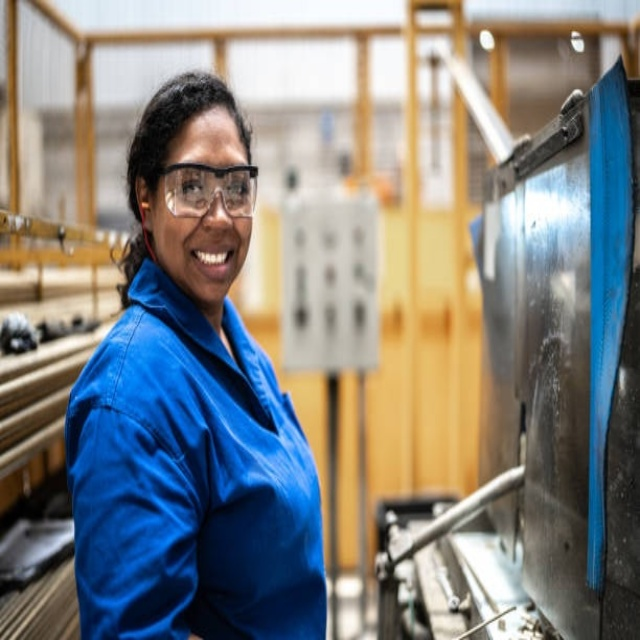Gafas: (154, 164, 260, 218)
Sin_mascara: (183, 234, 241, 292)
